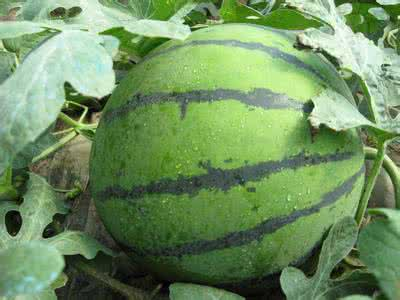watermelon: (93, 27, 362, 271)
